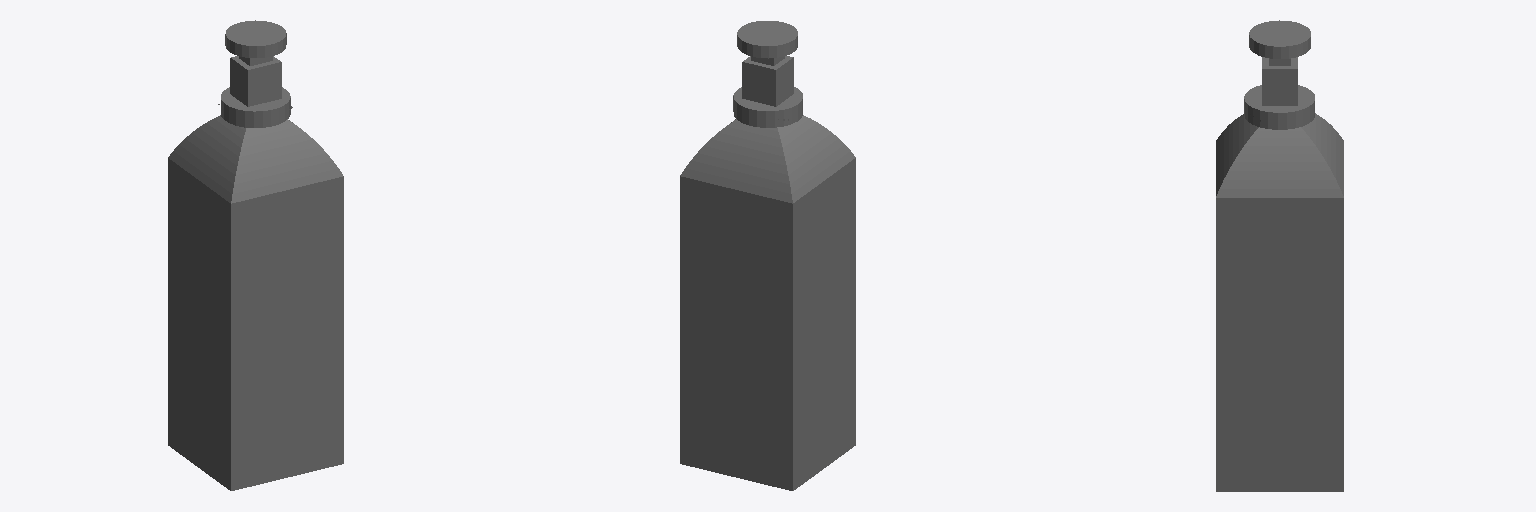
URDF robot description (object):
<?xml version="1.0"?>
<robot name="object">
  <link name="object">
    <visual>
      <origin xyz="0 0 0"/>
      <geometry>
        <mesh
          filename="../../mesh/oakink_virtual/bottle_s120.stl" />
      </geometry>
      <material name="mat">
        <color rgba="0.5 0.5 0.5 1"/>
      </material>
    </visual>

    <collision>
      <origin xyz="0 0 0"/>
      <geometry>
        <mesh
          filename="../../mesh/oakink_virtual/bottle_s120.stl" />
      </geometry>
    </collision>
  </link>
</robot>

--- Render facts (derived) ---
3 views of the same robot in one strip: view 1: azimuth 30°, elevation 25°; view 2: azimuth 150°, elevation 25°; view 3: azimuth 270°, elevation 25° (orthographic).
Model object with 1 links and 0 joints (none), rooted at object, posed all joints at 0.
Links seen in each view (by area): view 1: object; view 2: object; view 3: object.
Boxes of the visible links, left/top/right/bottom form: object: left=168, top=20, right=343, bottom=490; object: left=680, top=21, right=855, bottom=490; object: left=1216, top=20, right=1343, bottom=491.
Size in the robot's own frame: 0.0708 by 0.0684 by 0.2522 metres.
Meshes: 1 distinct files referenced, 1 mesh visuals loaded (1 binary STL).